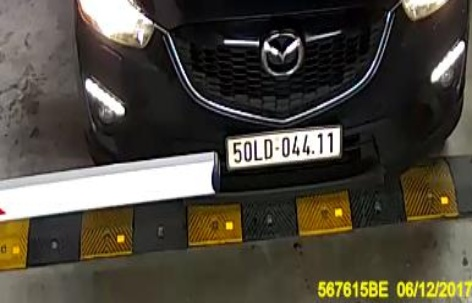plate: (225, 119, 345, 171)
